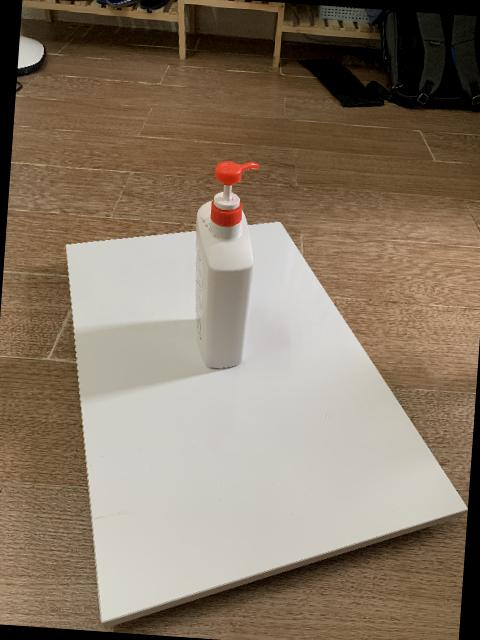life-buoy: (194, 161, 258, 369)
